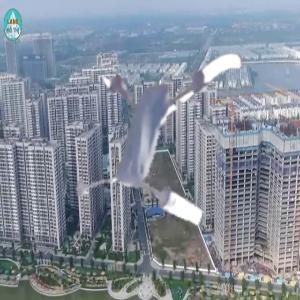drone: (67, 45, 252, 230)
